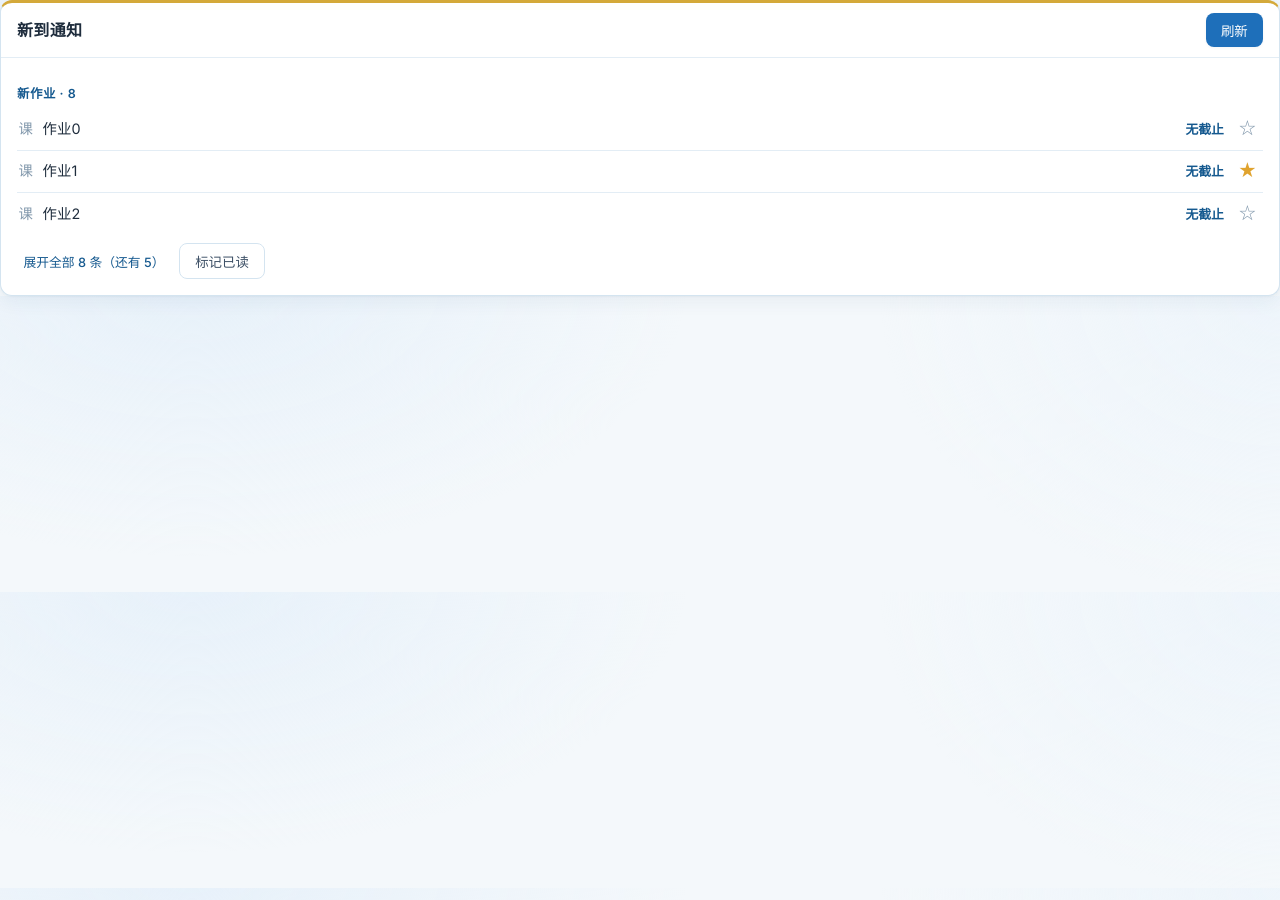
it: NewNoticesPanel is compact (collapses long lists) › shows only the preview count, then expands to all
Expected: the number of list items is 3, [17,109,1263,151]; [17,151,1263,193]; [19,204,1261,222]
Step 1. Click the button "展开全部 8 条（还有 5）" → (94, 261), box [17,248,171,274]
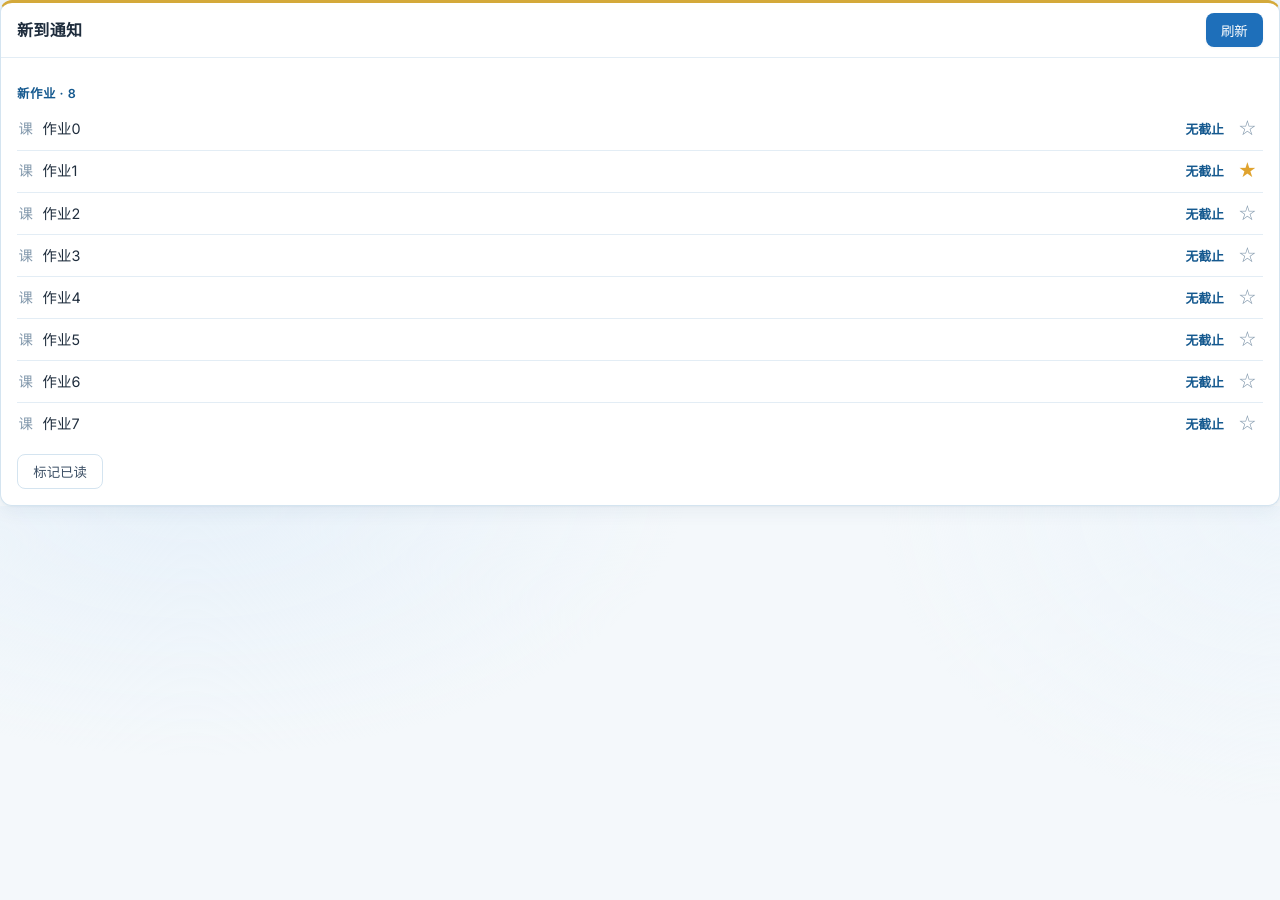
Now the number of list items is 8
